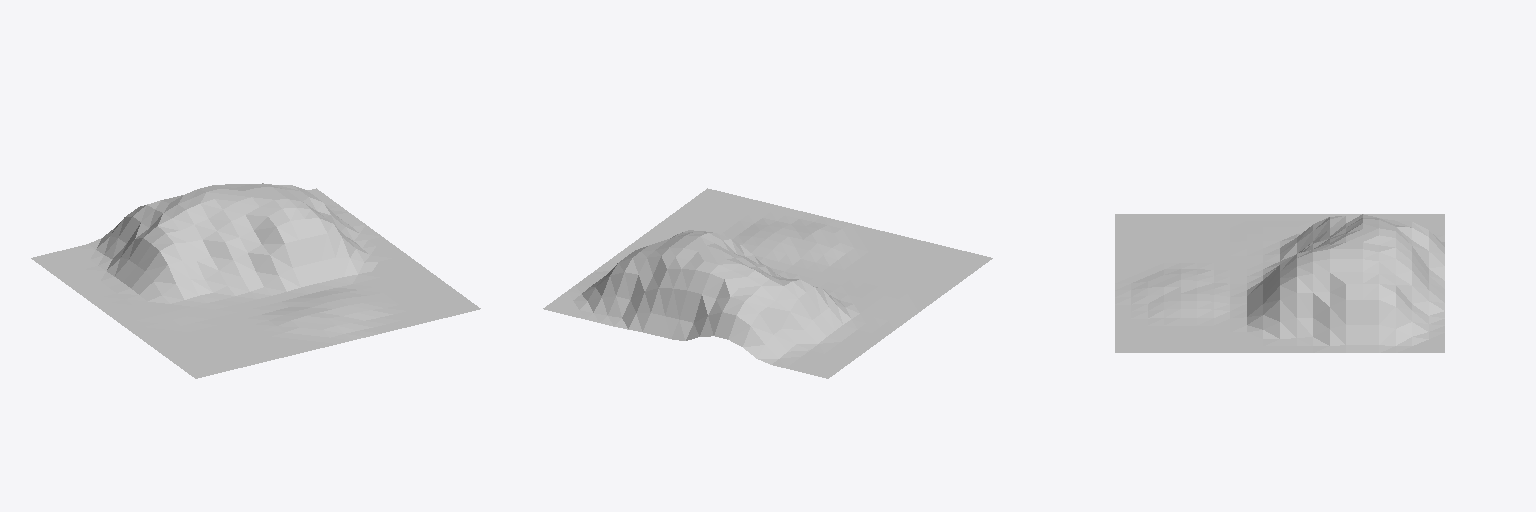
File: mountain2.obj
The picture shows the model from 3 angles: view 1: azimuth 30°, elevation 25°; view 2: azimuth 150°, elevation 25°; view 3: azimuth 270°, elevation 25°; orthographic projection.
Visible parts, largest first — view 1: pPlane1; view 2: pPlane1; view 3: pPlane1.
Boxes of the visible parts, box(x1,y1,x2,y2) form: pPlane1: box(31, 183, 480, 378); pPlane1: box(543, 188, 992, 378); pPlane1: box(1115, 214, 1444, 352).
Bounding box in the file's own units: 205 × 37.84 × 205.